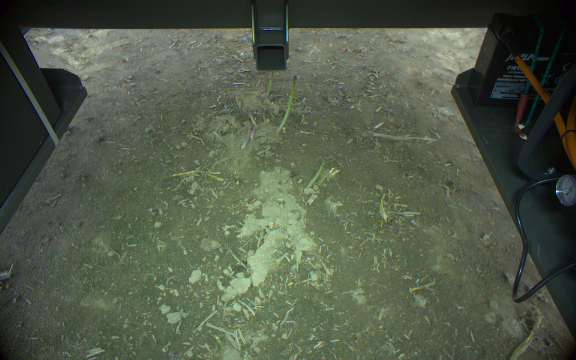aspa: (277, 74, 298, 132), (305, 153, 328, 190), (265, 72, 274, 101), (279, 170, 295, 185), (245, 110, 258, 127), (260, 105, 267, 124)
